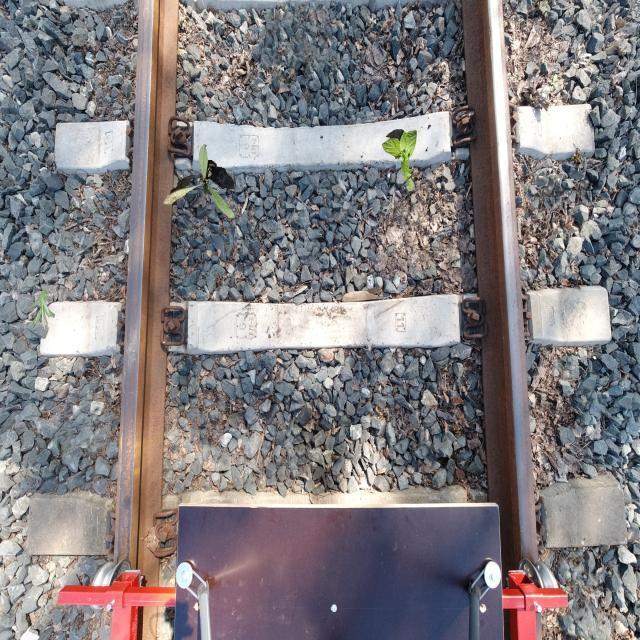Plant: (163, 144, 234, 218), (382, 129, 418, 192), (29, 289, 56, 331)
